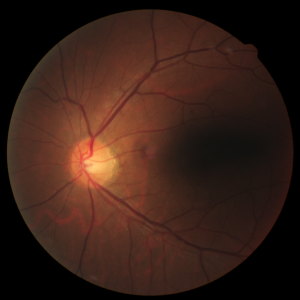healthy_eye: (31, 97, 222, 217)
